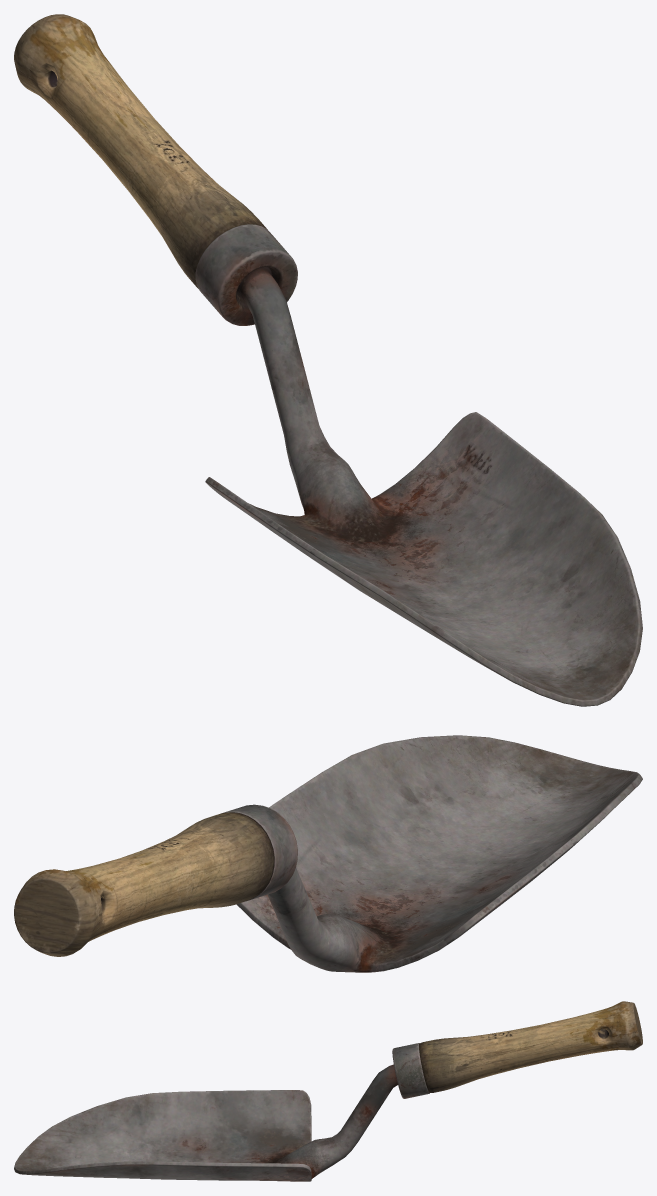
File: trowel_01.glb
3 renders of one model, top to bottom at view 1: azimuth 30°, elevation 25°; view 2: azimuth 150°, elevation 25°; view 3: azimuth 270°, elevation 25°, orthographic. The views are drawn at different scales.
Parts seen in each view (by area): view 1: trowel_01; view 2: trowel_01; view 3: trowel_01.
Boxes of the visible parts, x1,y1,x2,y2 form: trowel_01: (14, 14, 642, 706); trowel_01: (14, 735, 642, 972); trowel_01: (14, 1001, 642, 1181).
Size of the model in its own units: 0.0991 by 0.1026 by 0.3469.
1 material, 1 textured.
